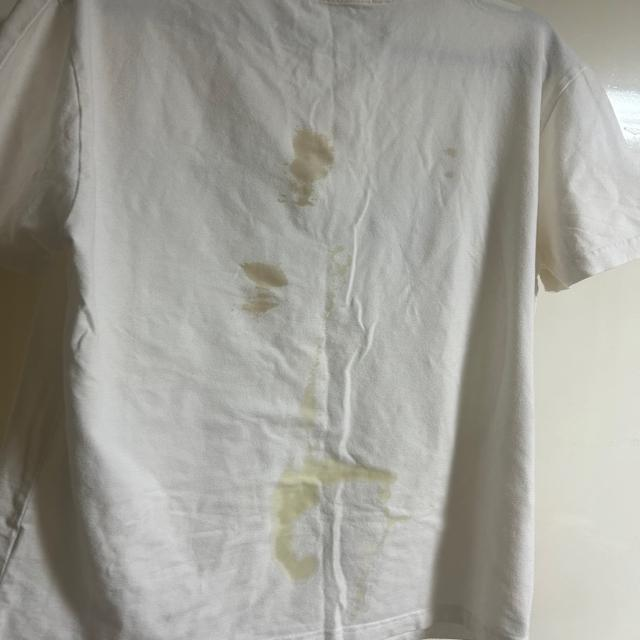stain: (286, 128, 332, 214), (283, 451, 387, 486), (302, 348, 328, 429), (236, 263, 298, 295), (236, 290, 292, 325), (274, 553, 323, 586), (314, 246, 362, 278), (272, 478, 320, 510), (370, 503, 412, 531), (441, 139, 464, 186), (279, 514, 308, 550)
